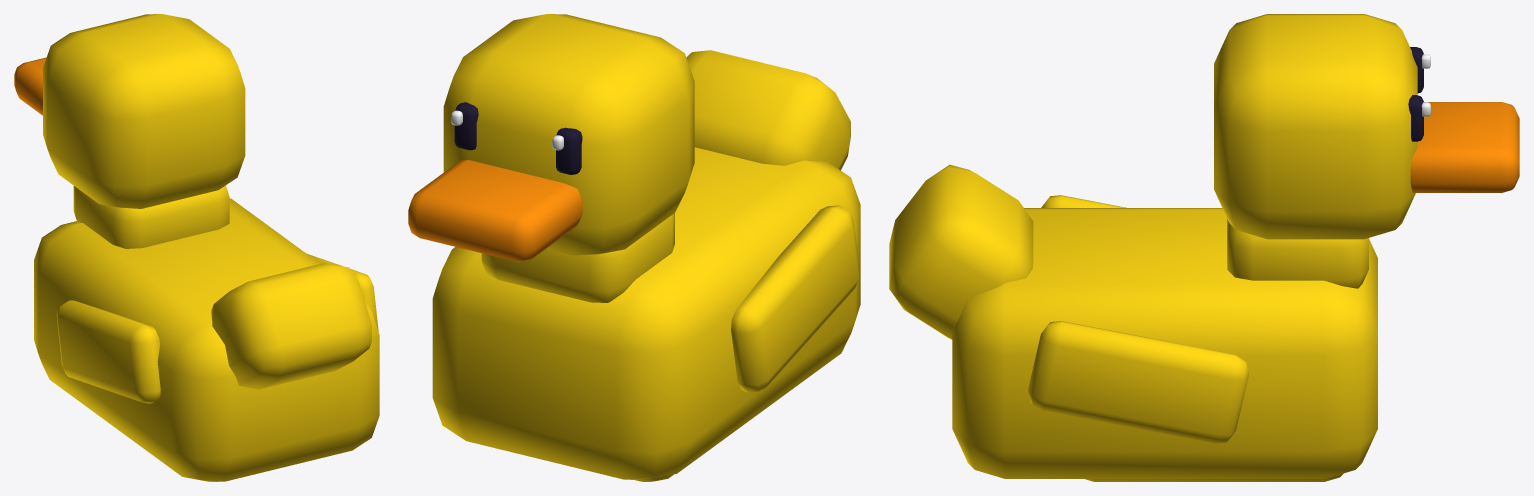
File: RubberDuck.fbx
The picture shows the model from 3 angles, left to right: view 1: azimuth 30°, elevation 25°; view 2: azimuth 150°, elevation 25°; view 3: azimuth 270°, elevation 25°; orthographic projection. The views are drawn at different scales.
Parts seen in each view (by area): view 1: RubberDuck; view 2: RubberDuck; view 3: RubberDuck.
Part boxes in pixels (box(x1,y1,x2,y2)): RubberDuck: box(14, 14, 379, 481); RubberDuck: box(408, 14, 860, 481); RubberDuck: box(889, 14, 1519, 481).
Bounding box in the file's own units: 1.9 × 2.5 × 3.56.
Materials: 1 (1 with a texture image).
